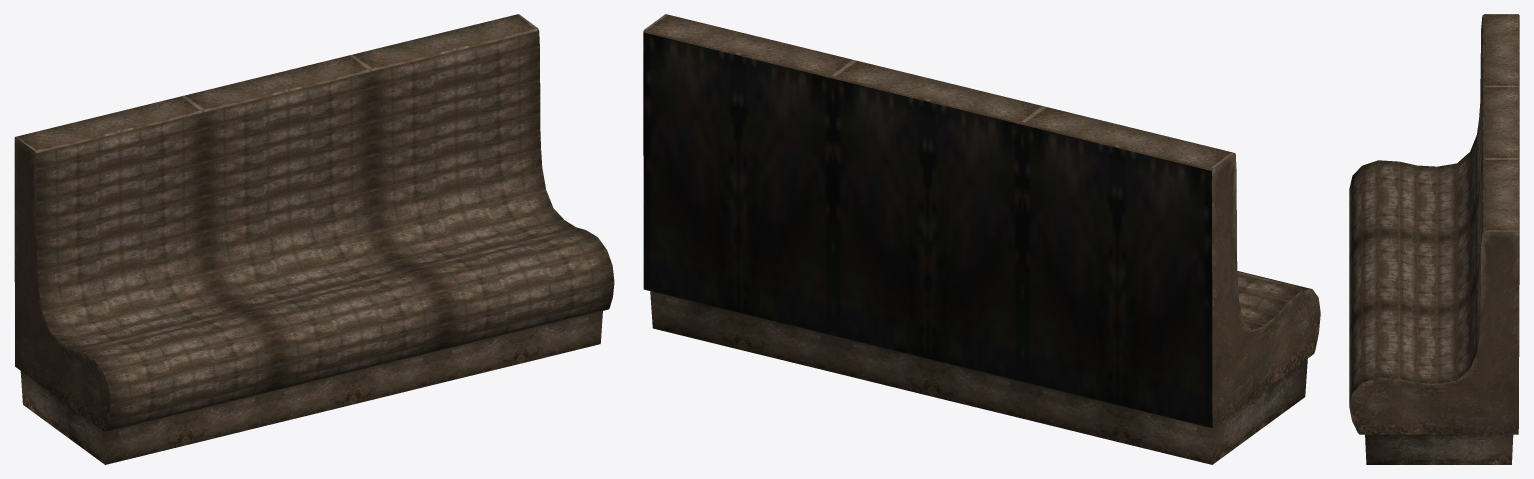
Rendered from thm_frn_chair_s02_l0.fbx.
3 views of the same model, side by side, from view 1: azimuth 30°, elevation 25°; view 2: azimuth 150°, elevation 25°; view 3: azimuth 270°, elevation 25° (orthographic). The views are drawn at different scales.
Visible parts, largest first — view 1: mesh_node; view 2: mesh_node; view 3: mesh_node.
Boxes of the visible parts, x1,y1,x2,y2 form: mesh_node: (14, 14, 614, 464); mesh_node: (643, 14, 1320, 464); mesh_node: (1349, 14, 1519, 464).
Size of the model in its own units: 2.18 by 1.1 by 0.7214.
1 material, 1 textured.
